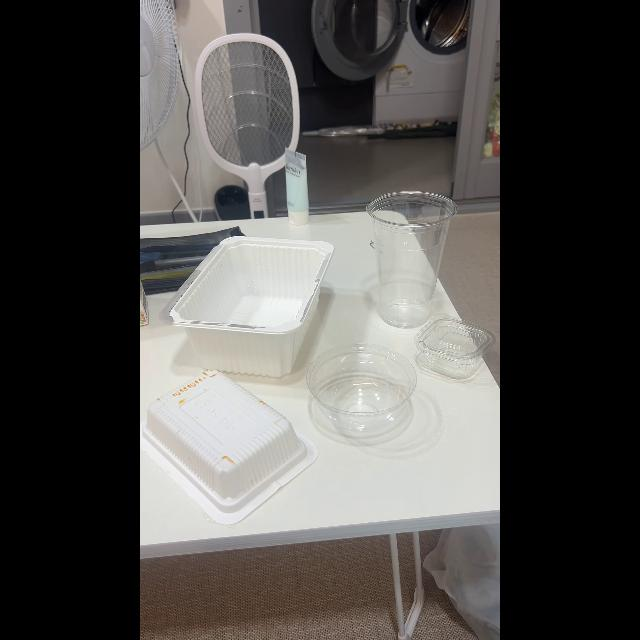clean: (164, 234, 329, 370), (370, 192, 434, 326), (312, 354, 412, 432), (423, 330, 493, 380)
dirty: (150, 376, 304, 502)
